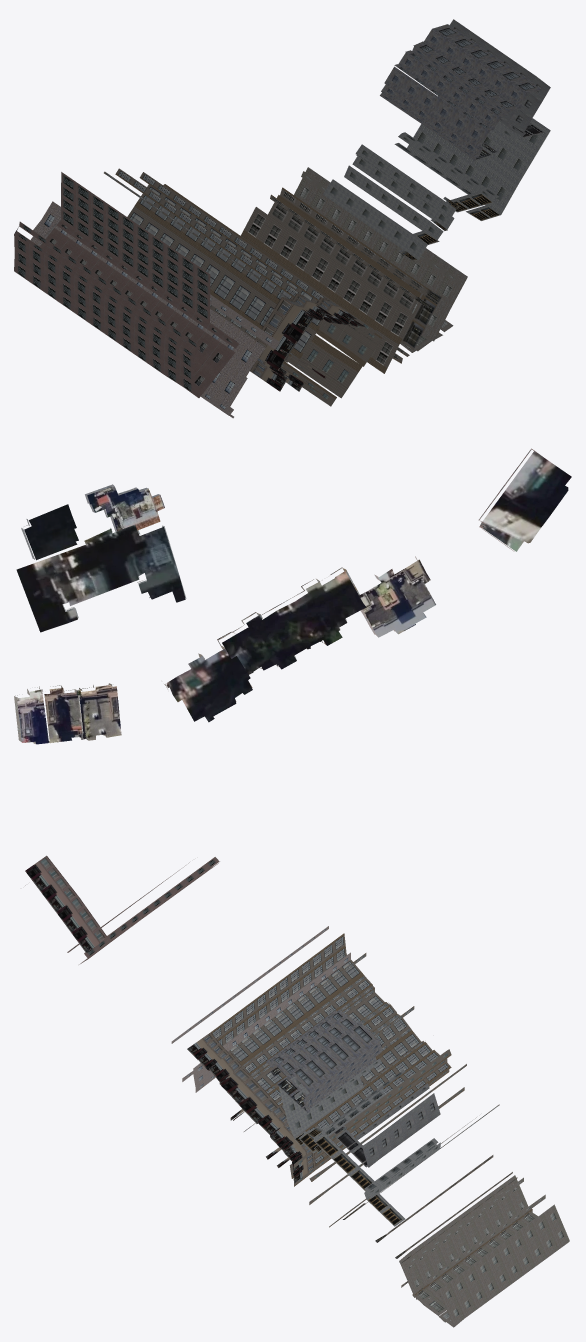
Rendered from tile_LOD4_r2_c11.glb.
3 renders of one model, top to bottom at view 1: azimuth 30°, elevation 25°; view 2: azimuth 150°, elevation 25°; view 3: azimuth 270°, elevation 25°, orthographic. The views are drawn at different scales.
Size of the model in its own units: 139 by 85 by 128.
47 materials, 47 textured.
